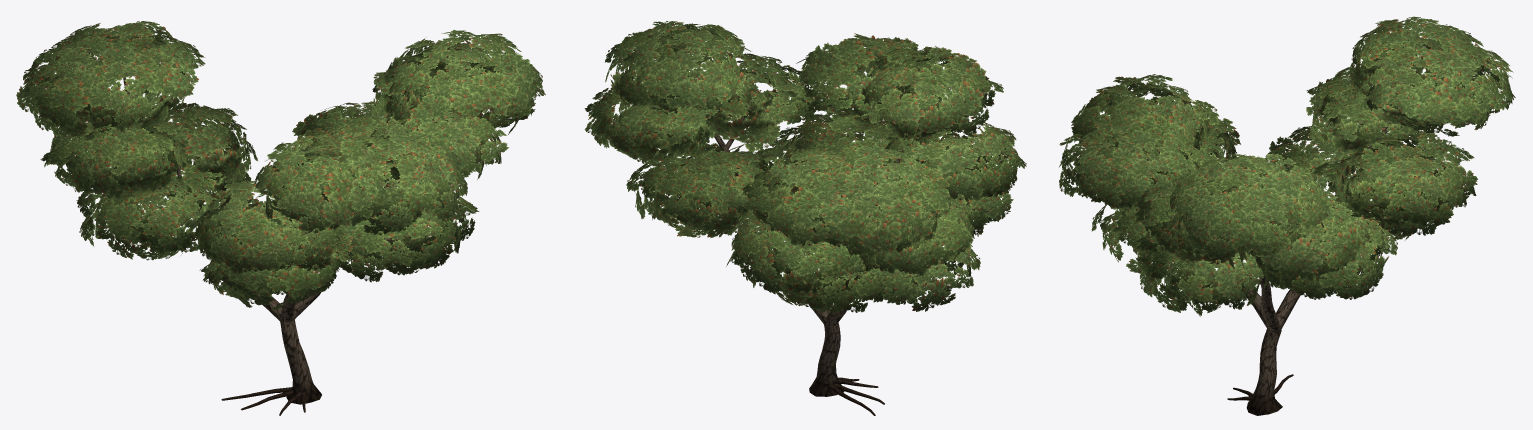
The model's file is gewa_a.glb.
3 renders of one model, left to right at view 1: azimuth 30°, elevation 25°; view 2: azimuth 150°, elevation 25°; view 3: azimuth 270°, elevation 25°, orthographic.
Parts seen in each view (by area): view 1: leaves, wood; view 2: leaves, wood; view 3: leaves, wood.
Part boxes in pixels (x1,y1,x2,y2): leaves: (16,21,545,310); wood: (98,62,459,415); leaves: (584,21,1026,313); wood: (659,77,976,415); leaves: (1059,16,1515,316); wood: (1138,71,1417,415).
Bounding box in the file's own units: 12.44 × 9.11 × 11.67.
Materials: 2 (2 with a texture image).
